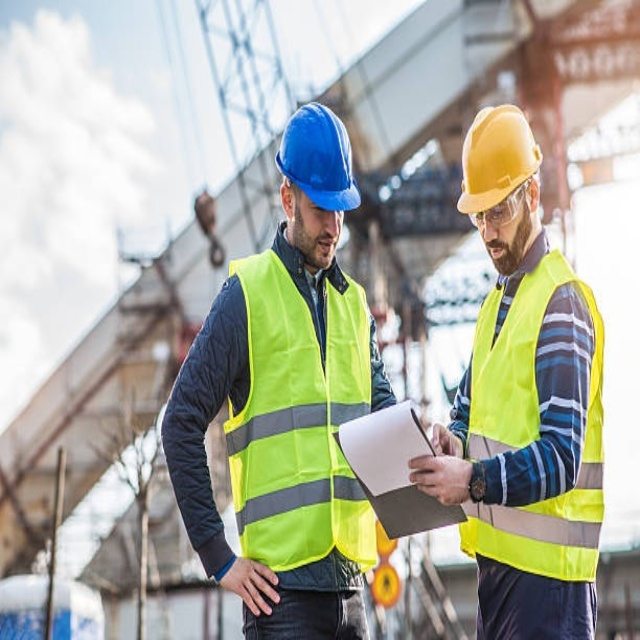Gafas: (471, 179, 530, 229)
Sin_guantes: (218, 554, 282, 618), (405, 448, 471, 507)
Sin_mascara: (484, 237, 515, 273), (308, 235, 341, 265)
